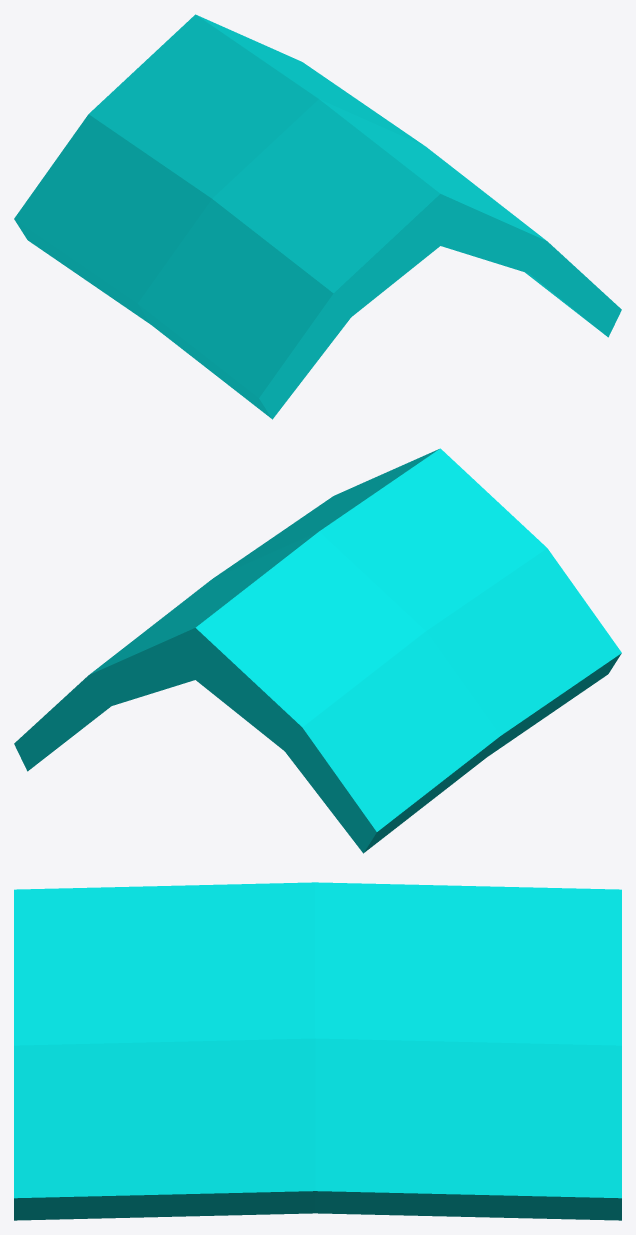
Rendered from SM_Bld_Roof_Thatch_Preset_Wide_01_Collision.fbx.
The picture shows the model from 3 angles, top to bottom: view 1: azimuth 30°, elevation 25°; view 2: azimuth 150°, elevation 25°; view 3: azimuth 270°, elevation 25°; orthographic projection. The views are drawn at different scales.
Visible parts, largest first — view 1: SM_Bld_Roof_Thatch_Preset_Wide_01_Collision; view 2: SM_Bld_Roof_Thatch_Preset_Wide_01_Collision; view 3: SM_Bld_Roof_Thatch_Preset_Wide_01_Collision.
Part boxes in pixels (left/top/right/bottom): SM_Bld_Roof_Thatch_Preset_Wide_01_Collision: left=14, top=14, right=621, bottom=419; SM_Bld_Roof_Thatch_Preset_Wide_01_Collision: left=14, top=448, right=621, bottom=853; SM_Bld_Roof_Thatch_Preset_Wide_01_Collision: left=14, top=882, right=621, bottom=1220.
Bounding box in the file's own units: 749 × 376 × 876.
